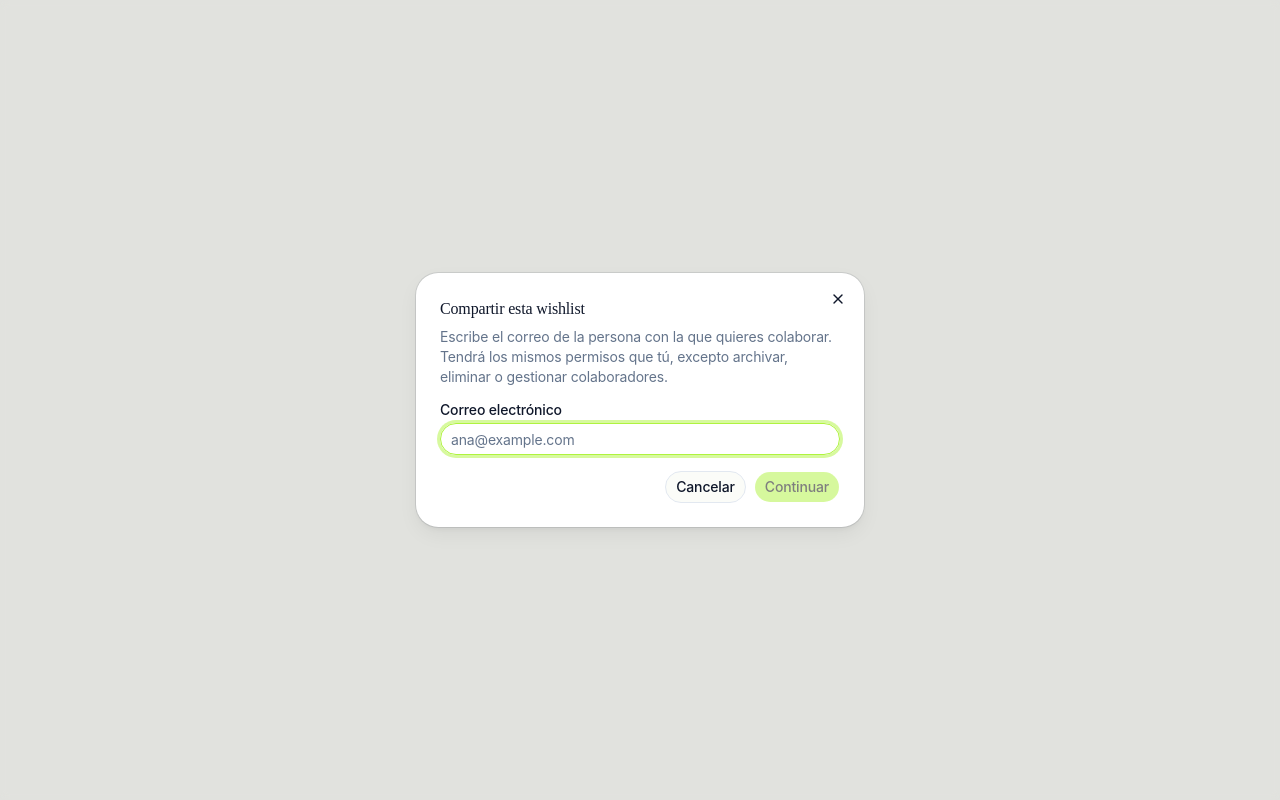
Test: ShareByEmailDialog › states the person will be invited when the address has no account
Step 1. Type "future@example.com" into the field labelled "Correo electrónico" → (640, 439), box [440,423,840,455]
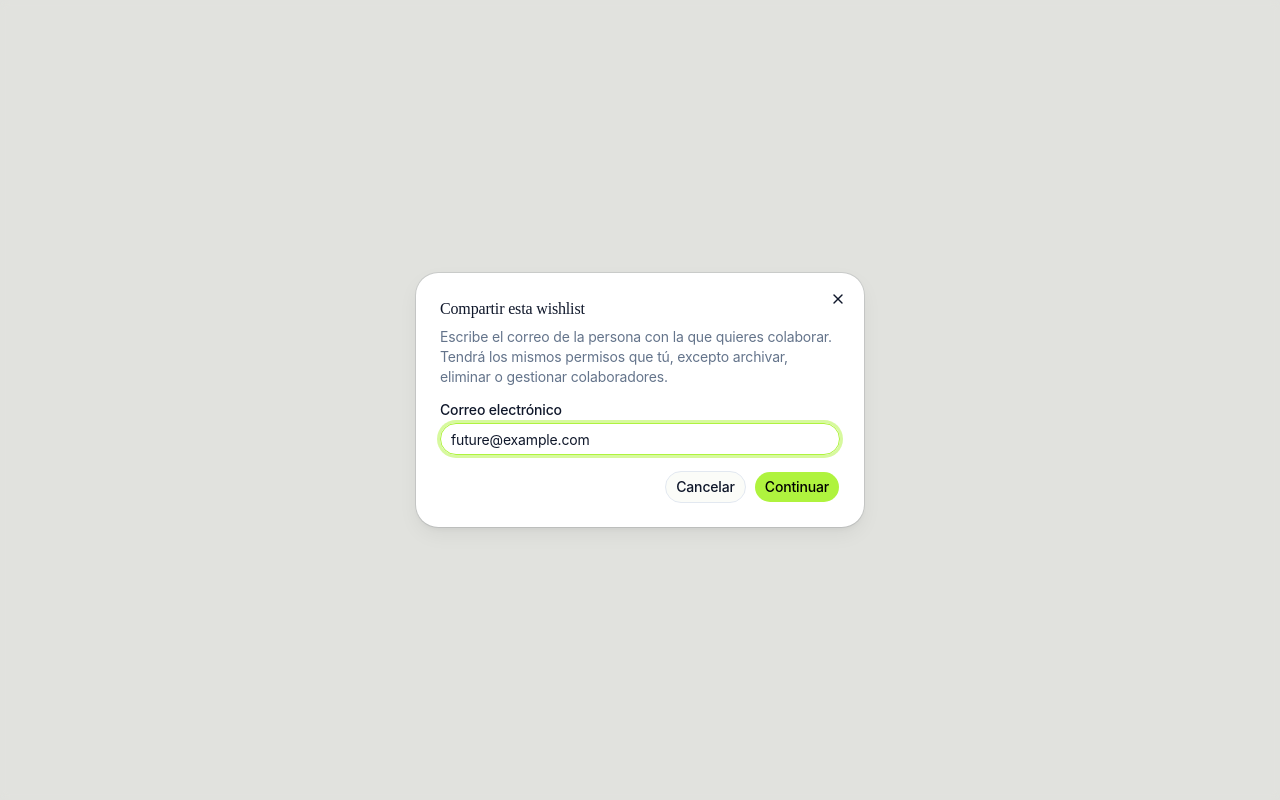
Step 2. Click the button "Continuar" → click(797, 487), box [754,471,840,503]
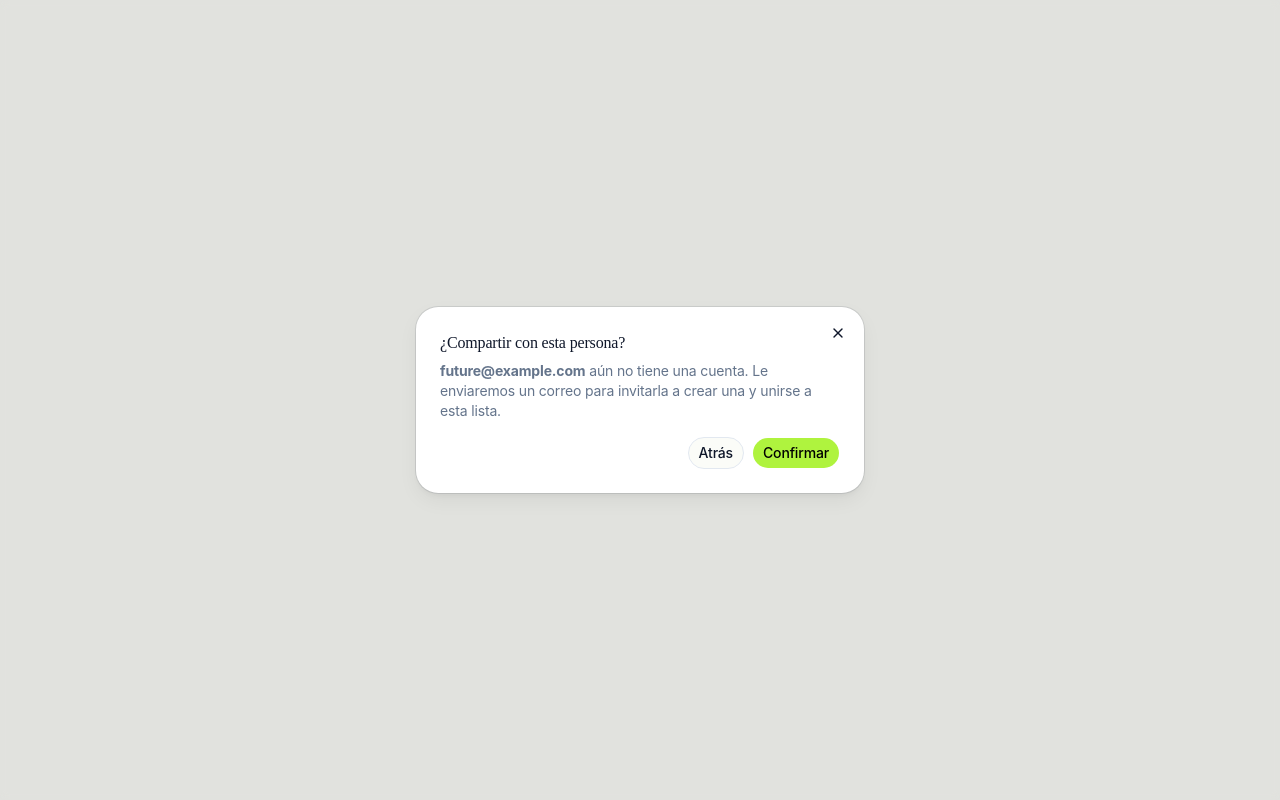
Expected: the text "aún no tiene una cuenta" is shown, [440,362,812,419]
